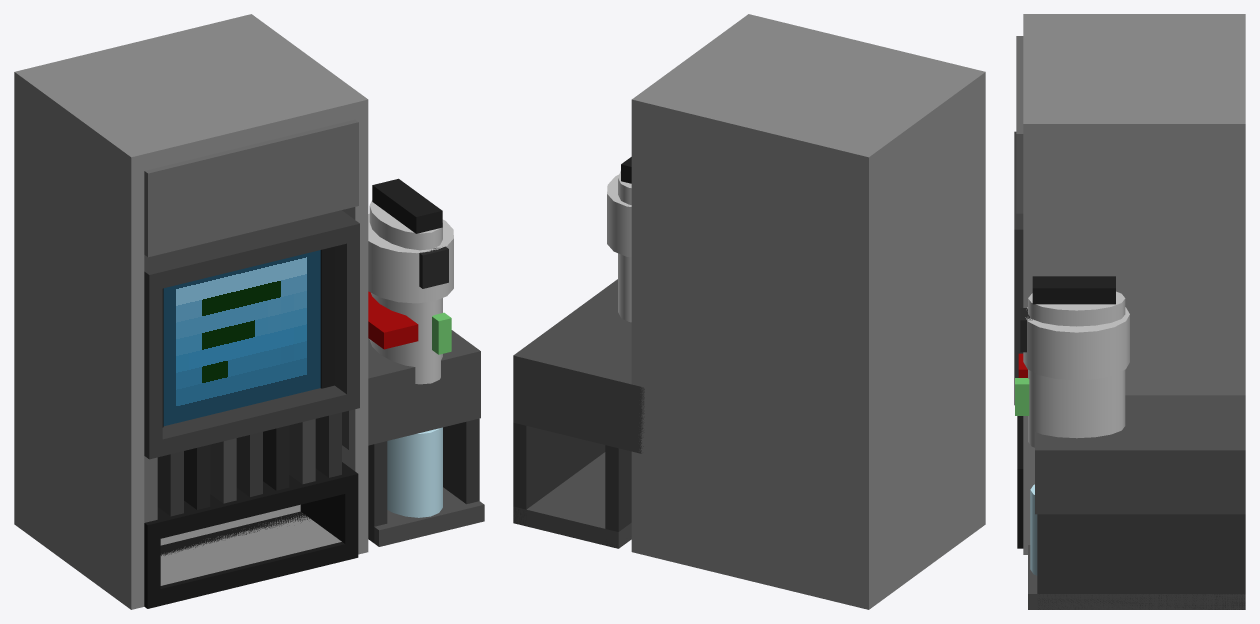
The model's file is CMU3DSeedExtractorCloud.glb.
3 views of the same model, side by side, from view 1: azimuth 30°, elevation 25°; view 2: azimuth 150°, elevation 25°; view 3: azimuth 270°, elevation 25° (orthographic). The views are drawn at different scales.
Parts seen in each view (by area): view 1: left full depth casing, case roof, recessed cyan status screen source detail, upper blank sign, right pod connecting support, screen bezel top, right full depth casing, case floor, screen bezel bottom, lower output opening bottom, lower output opening top, upper pod metal chamber (+23 smaller); view 2: cabinet rear, left full depth casing, case roof, right pod connecting support, right full depth casing, right pod lower crossfoot, right process lower leg 29, right process lower leg 22, upper pod collar, upper pod metal chamber; view 3: right full depth casing, right pod connecting support, case roof, right process lower leg 29, upper pod metal chamber, upper pod collar, right pod lower crossfoot, upper chamber cap, cabinet rear, upper blank sign, left full depth casing, screen bezel right (+6 smaller).
Boxes of the visible parts, bbox=[...] form: left full depth casing: bbox=[14, 68, 144, 609]; case roof: bbox=[28, 17, 355, 170]; recessed cyan status screen source detail: bbox=[163, 250, 320, 426]; upper blank sign: bbox=[144, 119, 358, 257]; right pod connecting support: bbox=[342, 330, 480, 449]; screen bezel top: bbox=[144, 210, 359, 291]; right full depth casing: bbox=[238, 14, 368, 554]; case floor: bbox=[160, 504, 341, 585]; screen bezel bottom: bbox=[144, 385, 359, 459]; lower output opening bottom: bbox=[144, 511, 358, 608]; lower output opening top: bbox=[144, 462, 358, 541]; upper pod metal chamber: bbox=[369, 200, 442, 384]; cabinet rear: bbox=[645, 95, 864, 606]; left full depth casing: bbox=[855, 68, 985, 609]; case roof: bbox=[645, 17, 971, 169]; right pod connecting support: bbox=[513, 279, 644, 453]; right full depth casing: bbox=[631, 14, 761, 555]; right pod lower crossfoot: bbox=[513, 452, 631, 548]; right process lower leg 29: bbox=[513, 422, 605, 525]; right process lower leg 22: bbox=[605, 445, 631, 548]; upper pod collar: bbox=[607, 174, 631, 257]; upper pod metal chamber: bbox=[618, 170, 631, 322]; right full depth casing: bbox=[1023, 118, 1245, 554]; right pod connecting support: bbox=[1035, 395, 1245, 514]; case roof: bbox=[1023, 20, 1245, 117]; right process lower leg 29: bbox=[1037, 514, 1245, 609]; upper pod metal chamber: bbox=[1028, 291, 1125, 447]; upper pod collar: bbox=[1023, 307, 1129, 380]; right pod lower crossfoot: bbox=[1028, 545, 1245, 609]; upper chamber cap: bbox=[1032, 276, 1115, 304]; cabinet rear: bbox=[1227, 20, 1245, 117]; upper blank sign: bbox=[1016, 36, 1023, 213]; left full depth casing: bbox=[1023, 14, 1245, 19]; screen bezel right: bbox=[1014, 245, 1023, 389].
Bounding box in the file's own units: 0.8438 × 1.03 × 0.5.
Materials: 17 (1 with a texture image).
